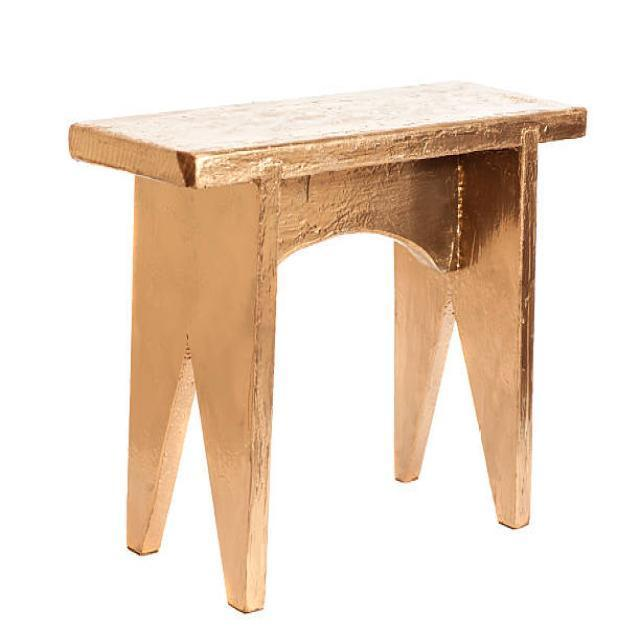table: (67, 77, 587, 614)
